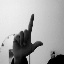l: (12, 13, 44, 54)
